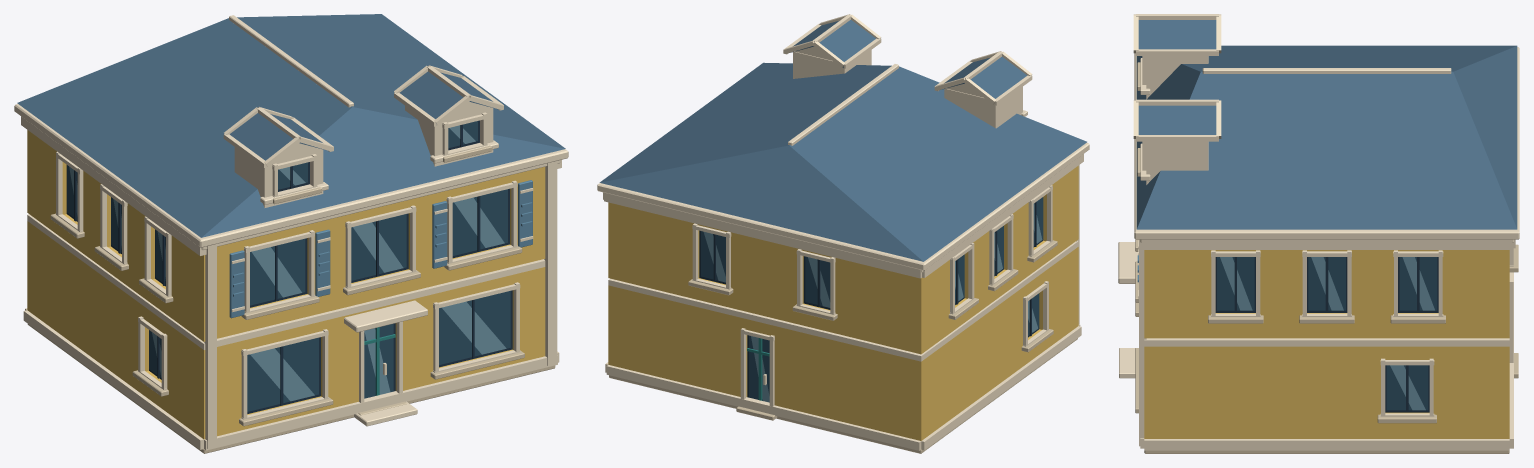
Rendered from attic_house.glb.
The picture shows the model from 3 angles, left to right: view 1: azimuth 30°, elevation 25°; view 2: azimuth 150°, elevation 25°; view 3: azimuth 270°, elevation 25°; orthographic projection. The views are drawn at different scales.
Parts seen in each view (by area): view 1: AtticHouse_StaticMesh; view 2: AtticHouse_StaticMesh; view 3: AtticHouse_StaticMesh.
Part boxes in pixels (x1,y1,x2,y2): AtticHouse_StaticMesh: [14, 14, 568, 453]; AtticHouse_StaticMesh: [597, 14, 1089, 453]; AtticHouse_StaticMesh: [1118, 14, 1519, 453].
Bounding box in the file's own units: 11.32 × 8.75 × 10.34.
